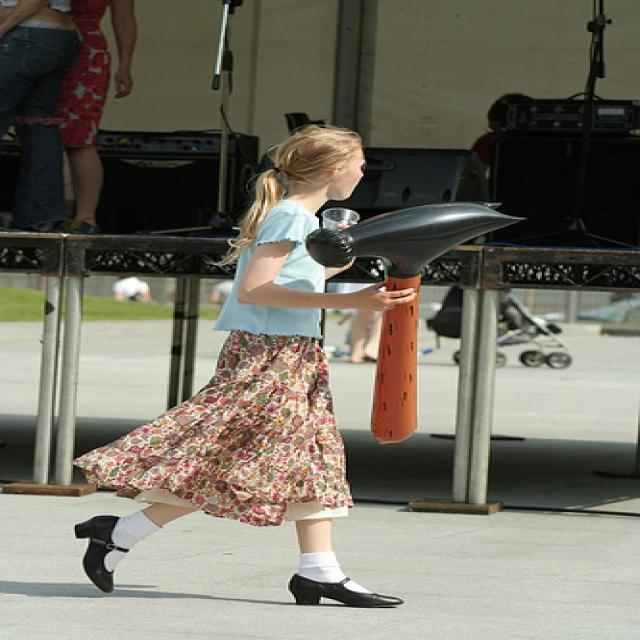hammer: (301, 197, 527, 453)
